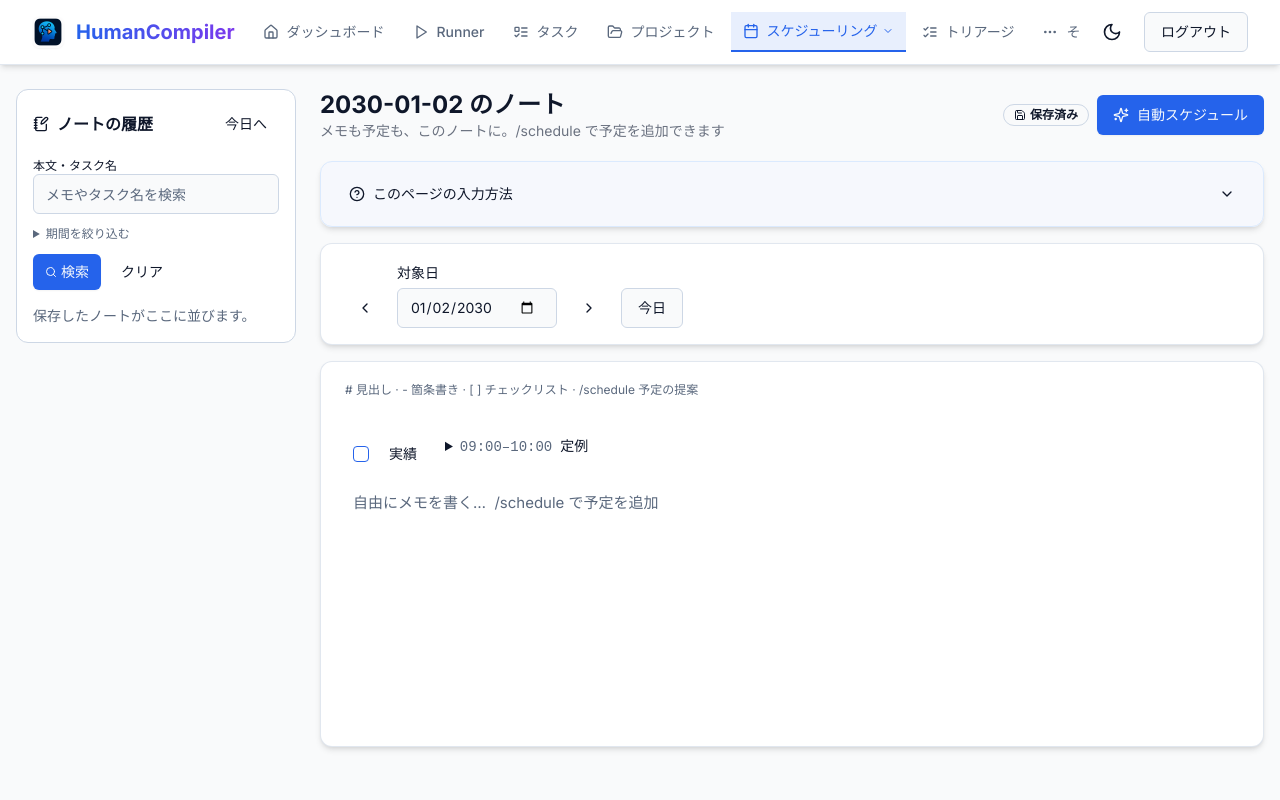
Test: DailyPlanWorkspace › fixed line task link › names the linked task when recording a fixed line's result
Expected: the field named "日次ノート" is shown, x1=353 y1=436 x2=588 y2=472
Click the heading "09:00–10:00定例".
click(524, 446)  # box x1=460 y1=437 x2=588 y2=455
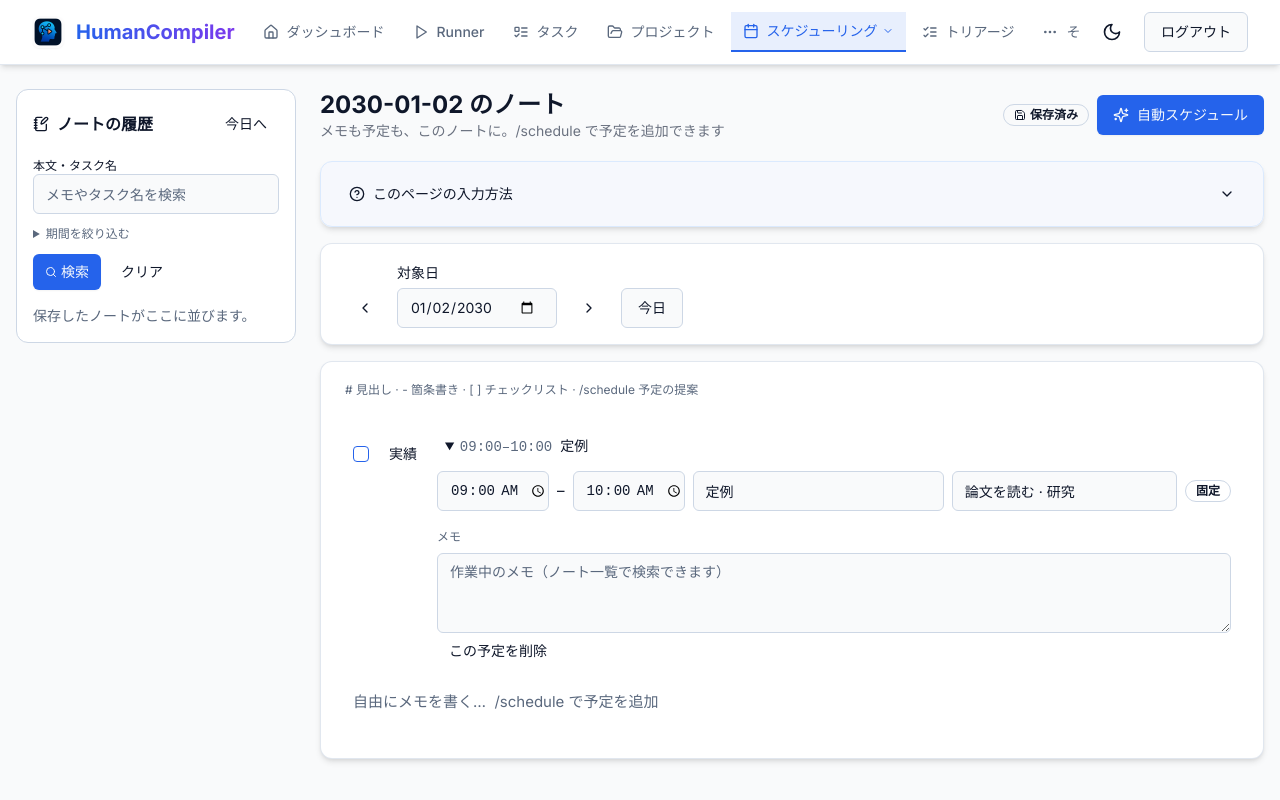
Focus the dropdown named "紐づけるタスク" at x=1064, y=491, box x1=952 y1=471 x2=1177 y2=511
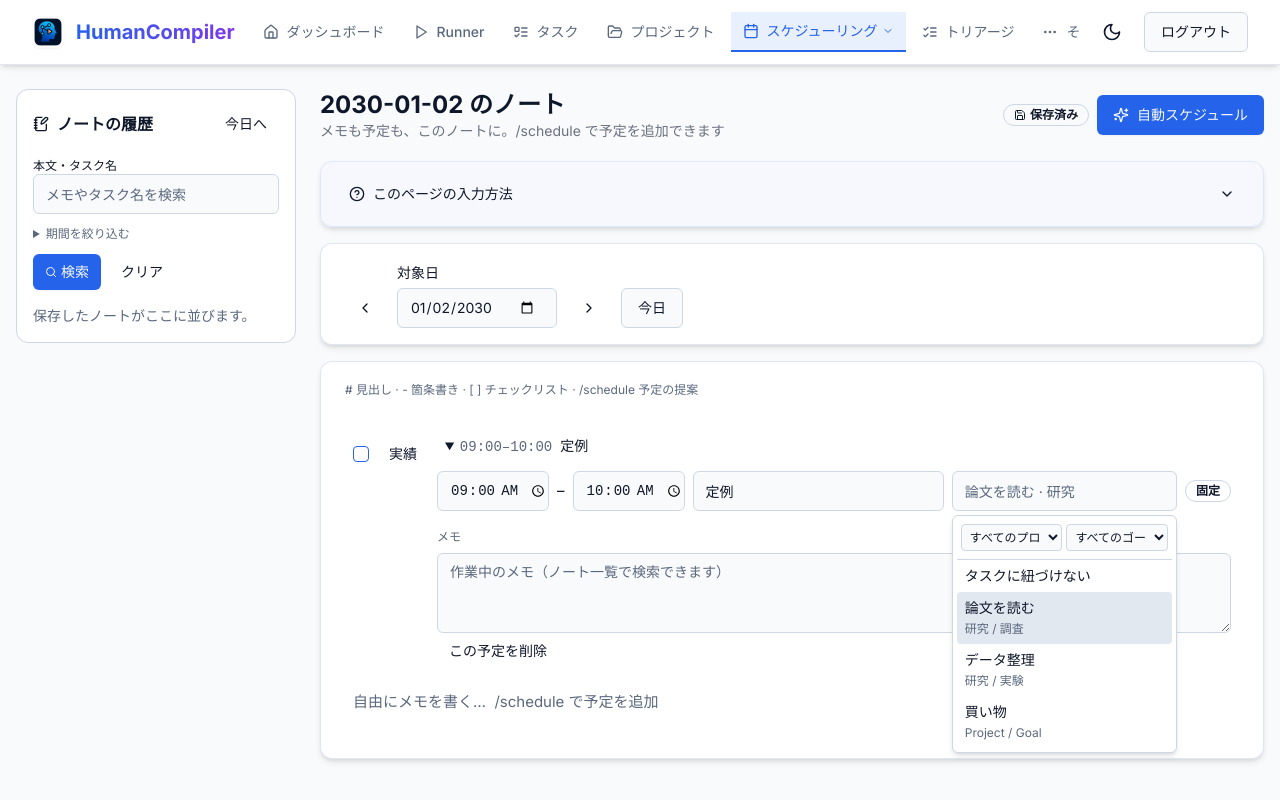
Expected: the checkbox named "定例を終了済みにする" is shown, x1=353 y1=446 x2=369 y2=462
Click the button "実績".
click(403, 454)  # box x1=377 y1=436 x2=429 y2=472
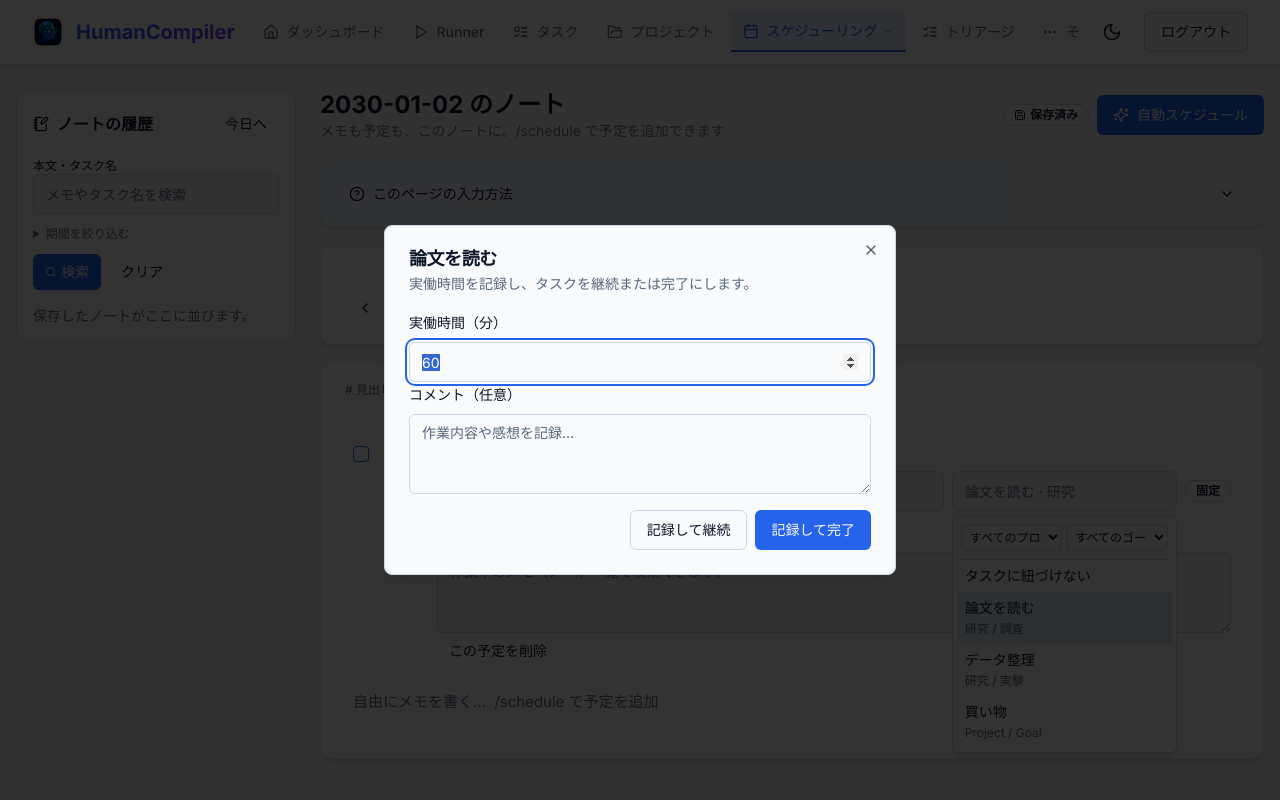
Result: the dialog "論文を読む" is shown at x1=384 y1=225 x2=896 y2=575
